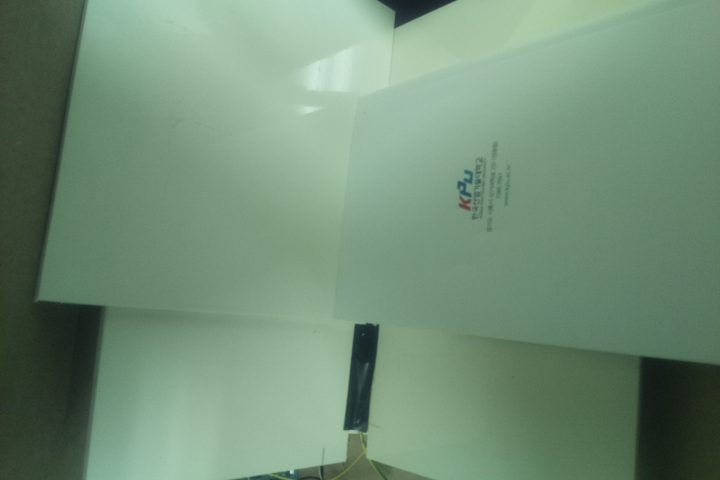book: (329, 1, 720, 367)
